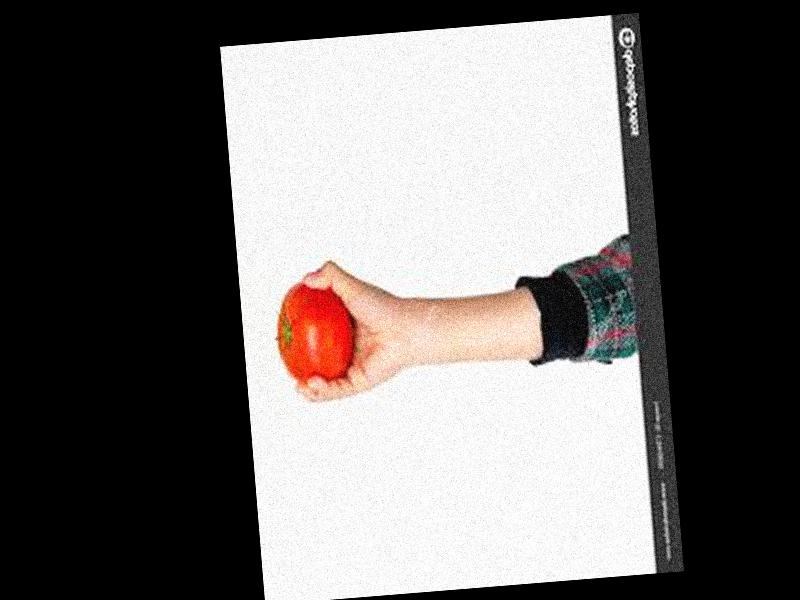Tomato: (270, 278, 358, 388)
